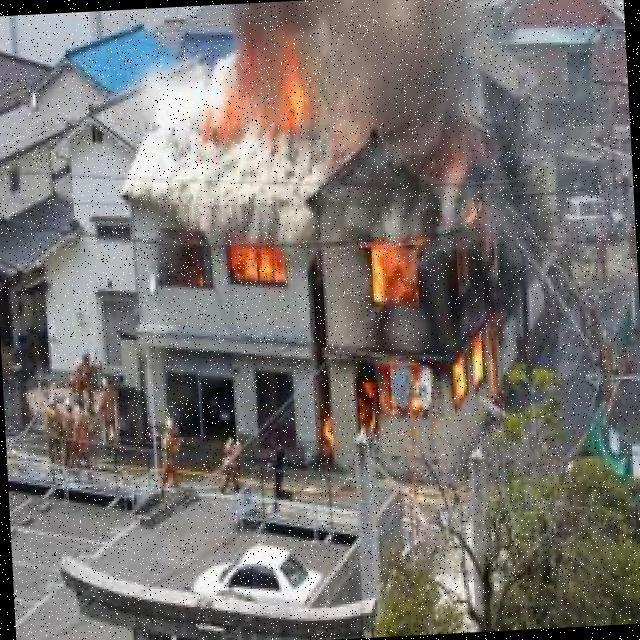Fire: (303, 149, 525, 469), (207, 39, 320, 150), (223, 246, 284, 291)
